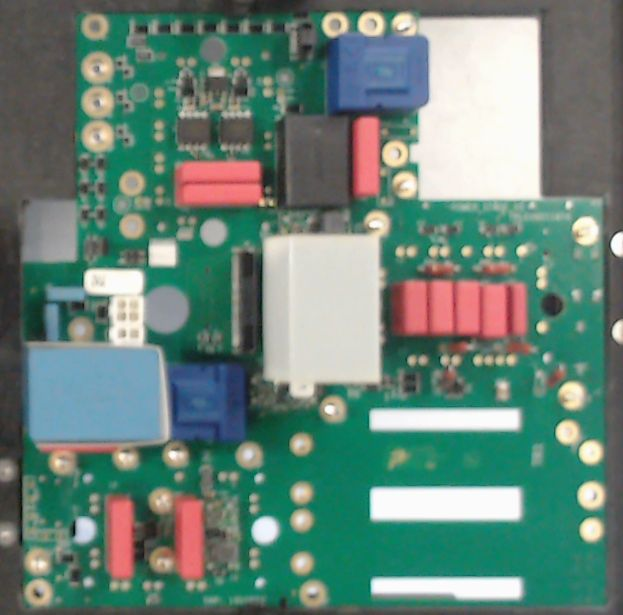comp1: (326, 35, 430, 111), (164, 364, 246, 439)
comp2: (101, 493, 136, 579), (171, 497, 204, 579), (175, 156, 264, 182), (353, 115, 381, 196), (174, 181, 261, 205), (392, 277, 427, 336), (426, 277, 455, 339), (452, 278, 480, 339), (480, 284, 507, 341), (508, 281, 528, 341)
comp3: (277, 110, 353, 208)
comp4: (261, 232, 383, 384), (22, 340, 168, 446)
